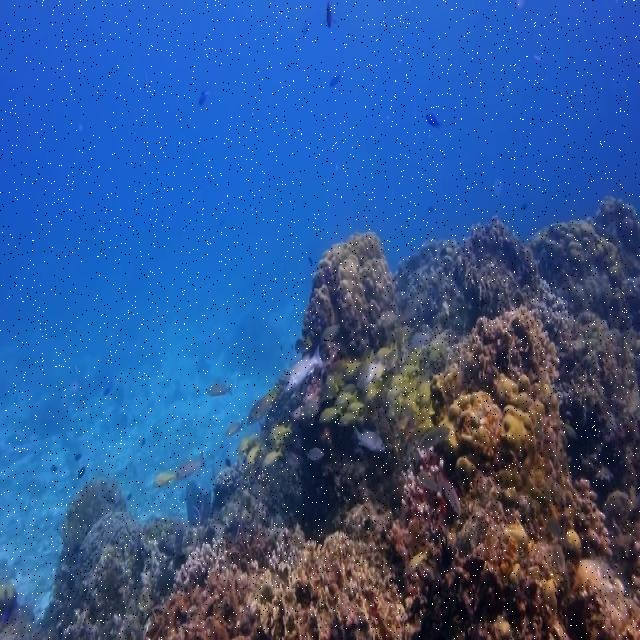reefs: (0, 195, 639, 639)
